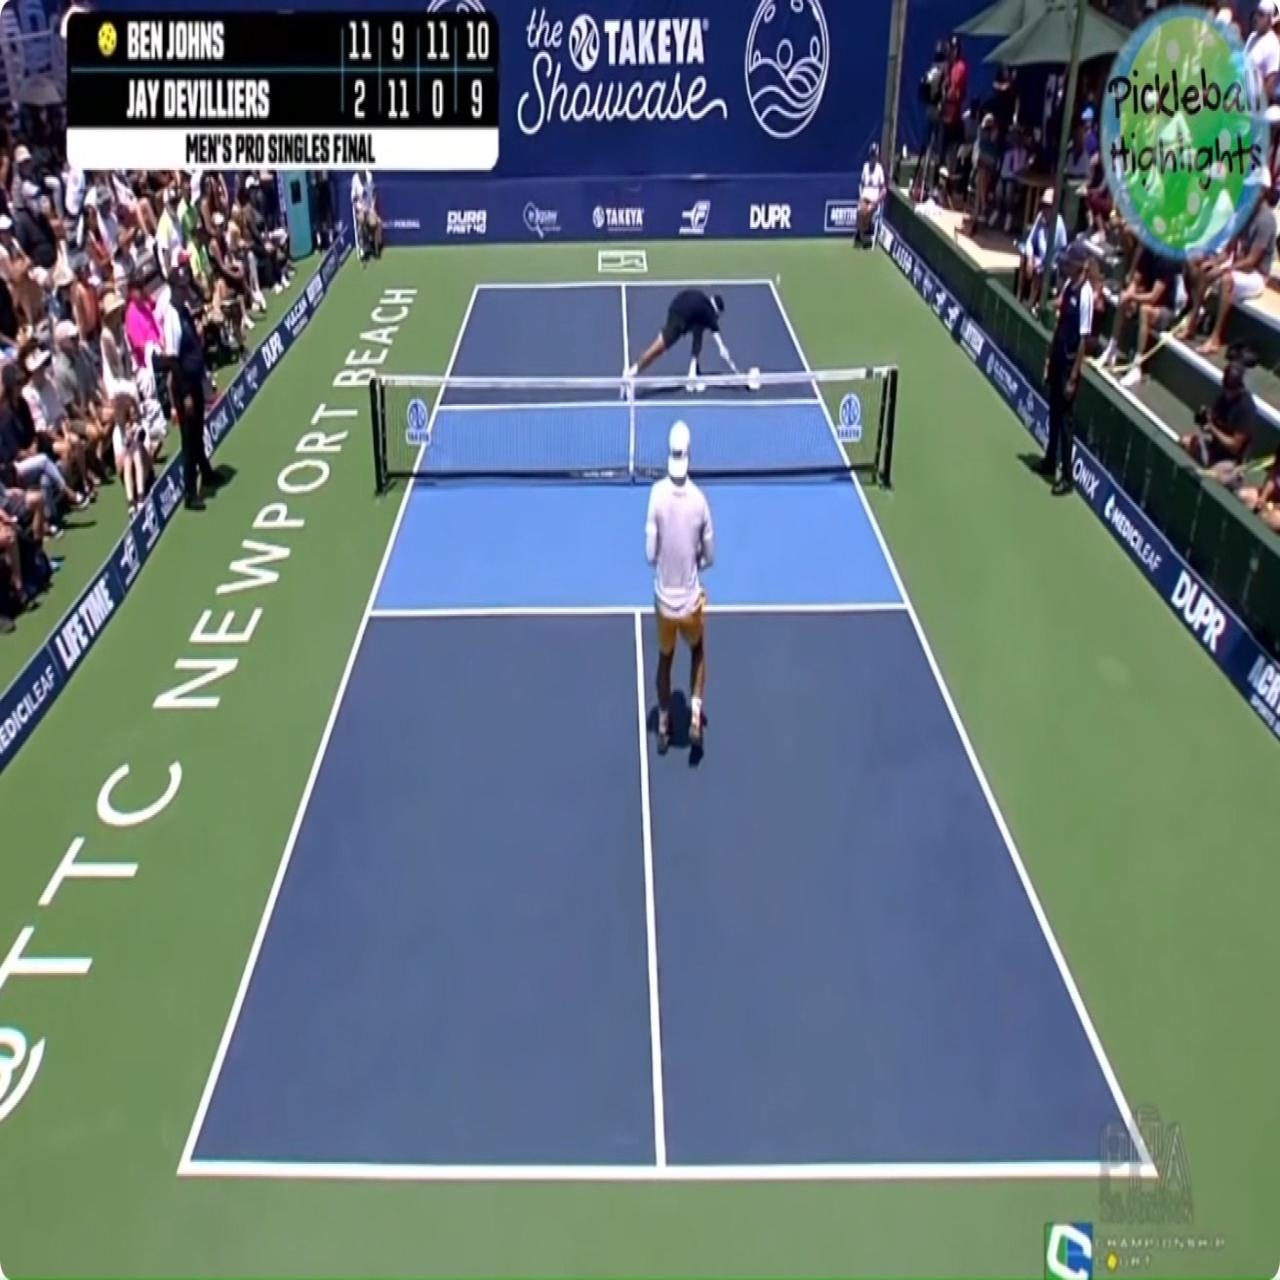pickleball: (775, 271, 781, 286)
